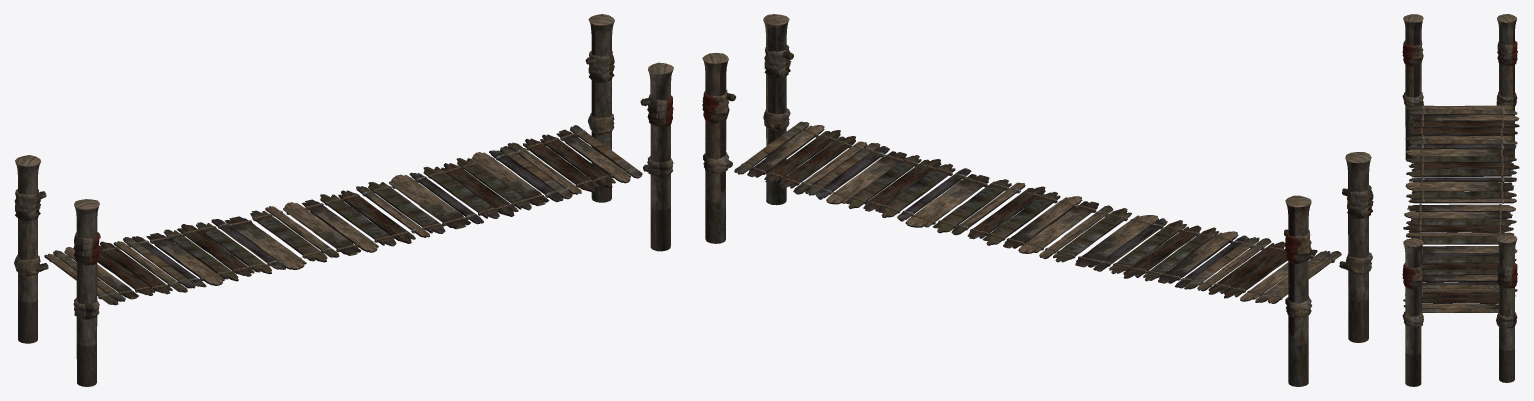
File: Wooden_Rope&Bridge_.fbx
3 views of the same model, side by side, from view 1: azimuth 30°, elevation 25°; view 2: azimuth 150°, elevation 25°; view 3: azimuth 270°, elevation 25° (orthographic). The views are drawn at different scales.
Visible parts, largest first — view 1: Bridge_wood:polySurface697_1, Bridge_wood:polySurface697_2, Bridge_wood:polySurface697_0; view 2: Bridge_wood:polySurface697_1, Bridge_wood:polySurface697_2, Bridge_wood:polySurface697_0; view 3: Bridge_wood:polySurface697_1, Bridge_wood:polySurface697_2, Bridge_wood:polySurface697_0.
Boxes of the visible parts, x1,y1,x2,y2 form: Bridge_wood:polySurface697_1: [44, 125, 642, 305]; Bridge_wood:polySurface697_2: [15, 14, 673, 386]; Bridge_wood:polySurface697_0: [14, 51, 673, 319]; Bridge_wood:polySurface697_1: [734, 121, 1341, 303]; Bridge_wood:polySurface697_2: [702, 14, 1371, 386]; Bridge_wood:polySurface697_0: [702, 45, 1373, 318]; Bridge_wood:polySurface697_1: [1403, 105, 1519, 312]; Bridge_wood:polySurface697_2: [1403, 14, 1517, 386]; Bridge_wood:polySurface697_0: [1402, 40, 1517, 328].
Size of the model in its own units: 13.19 by 3.91 by 2.84.
Materials: 1 (1 with a texture image).
